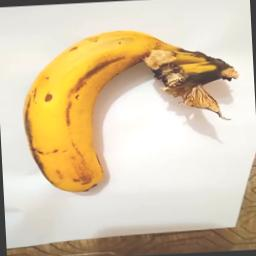Banana Unripe: (20, 20, 244, 194)
